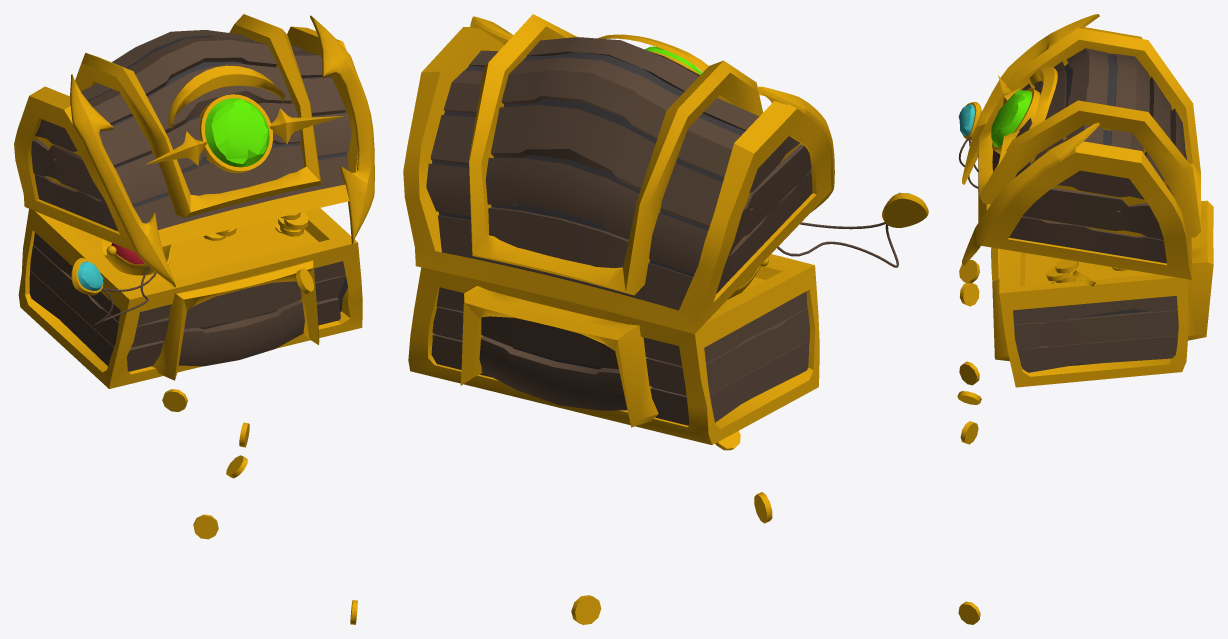
The model's file is ocean_chest.glb.
3 renders of one model, left to right at view 1: azimuth 30°, elevation 25°; view 2: azimuth 150°, elevation 25°; view 3: azimuth 270°, elevation 25°, orthographic. The views are drawn at different scales.
Parts seen in each view (by area): view 1: Ocean Chest; view 2: Ocean Chest; view 3: Ocean Chest.
Boxes of the visible parts, box(x1,y1,x2,y2) form: Ocean Chest: box(14, 14, 374, 624); Ocean Chest: box(403, 14, 928, 624); Ocean Chest: box(957, 14, 1213, 624).
Bounding box in the file's own units: 1.26 × 2.03 × 0.9093.
1 material, 1 textured.
